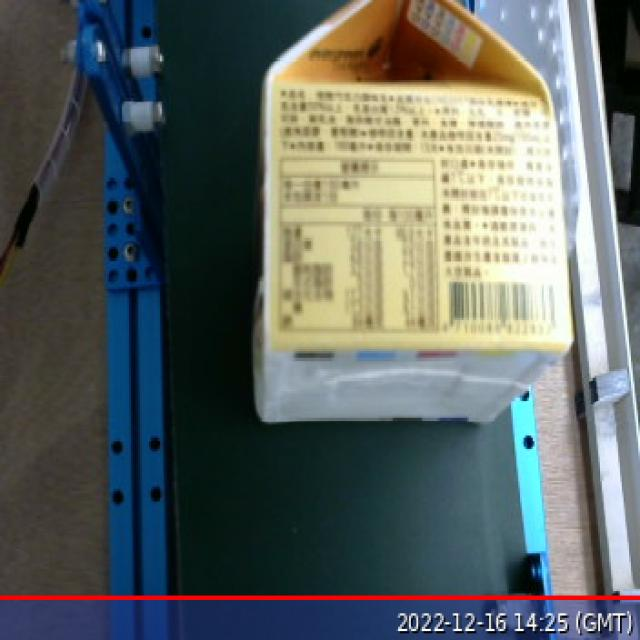non_white_jug: (234, 0, 597, 457)
